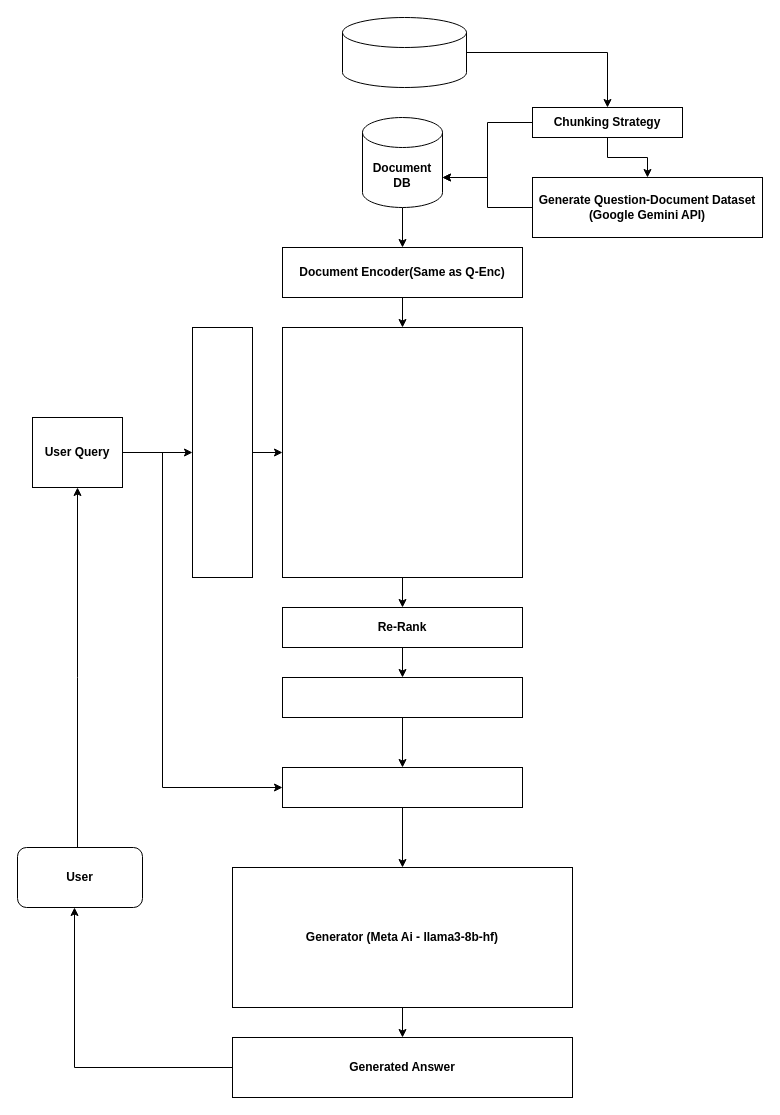
The diagram is 780 pixels wide and 1115 high, and some of its shapes have lost their labels. The centre of each missing label's shape, as x and y in pixels:
"Document Embedding DB" goes at [402,452].
"Input prompt (Query + Retrieve Output)" goes at [402,787].
"PDF DB" goes at [404,52].
"Query Encoder (Fine-Tuned)" goes at [222,452].
"Retrieve Output(Doc1, Doc2, ...)" goes at [402,697].
